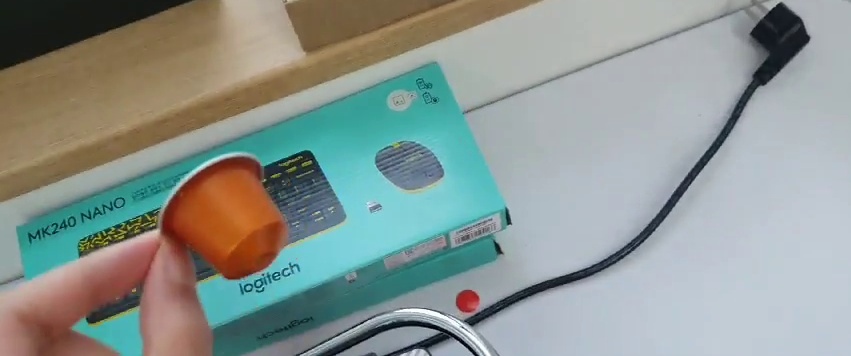capsule_5: (157, 151, 289, 279)
